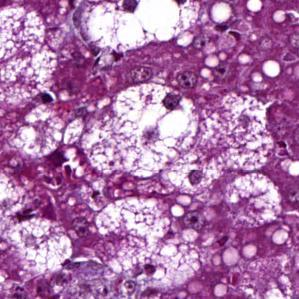ballooning: (82, 81, 200, 182), (75, 3, 183, 56), (220, 171, 285, 232)
